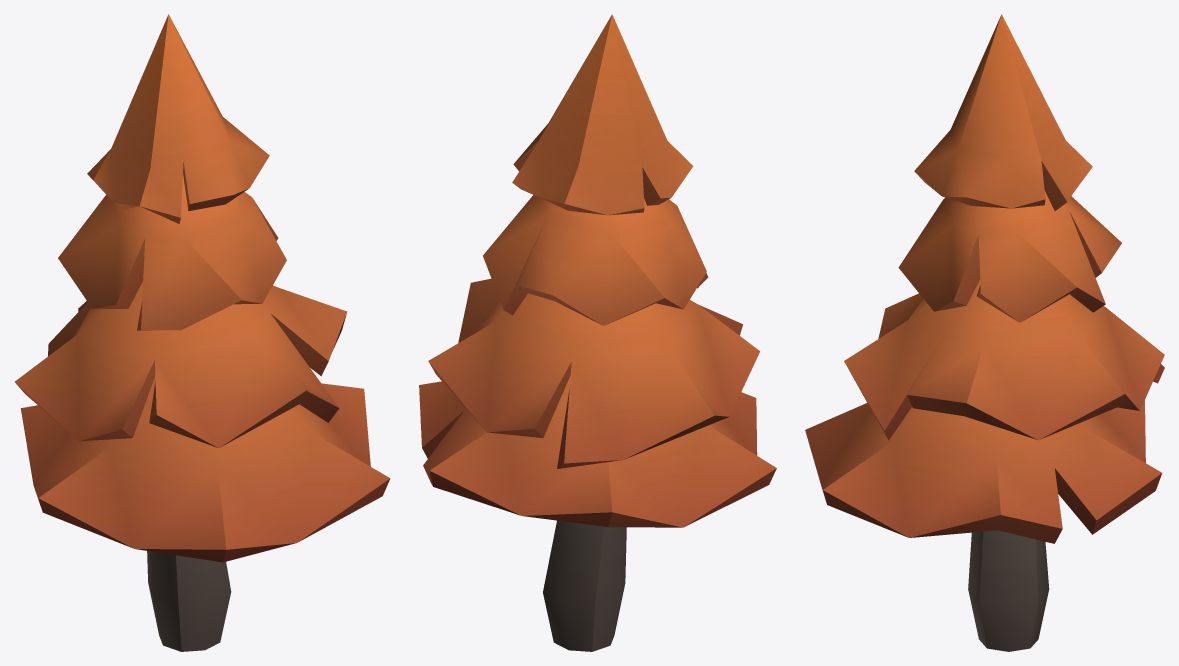
The model's file is tree-pine-orange-medium.glb.
3 views of the same model, side by side, from view 1: azimuth 30°, elevation 25°; view 2: azimuth 150°, elevation 25°; view 3: azimuth 270°, elevation 25° (orthographic). The views are drawn at different scales.
Parts seen in each view (by area): view 1: tree_pine_orange_medium; view 2: tree_pine_orange_medium; view 3: tree_pine_orange_medium.
Part boxes in pixels (x1,y1,x2,y2): tree_pine_orange_medium: (14,14,390,651); tree_pine_orange_medium: (419,14,776,651); tree_pine_orange_medium: (805,14,1164,651).
Bounding box in the file's own units: 3.33 × 5.87 × 3.12.
1 material, 1 textured.
